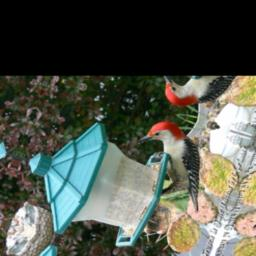Woodpecker: (119, 114, 225, 213)
